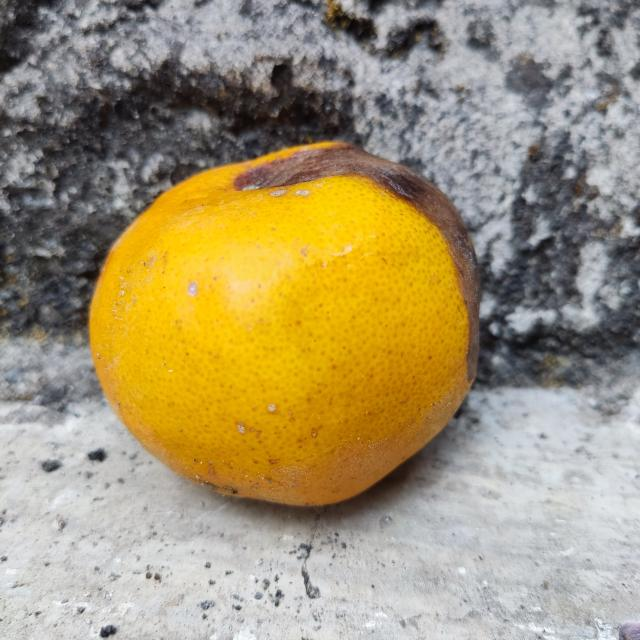orange: (88, 141, 484, 510)
